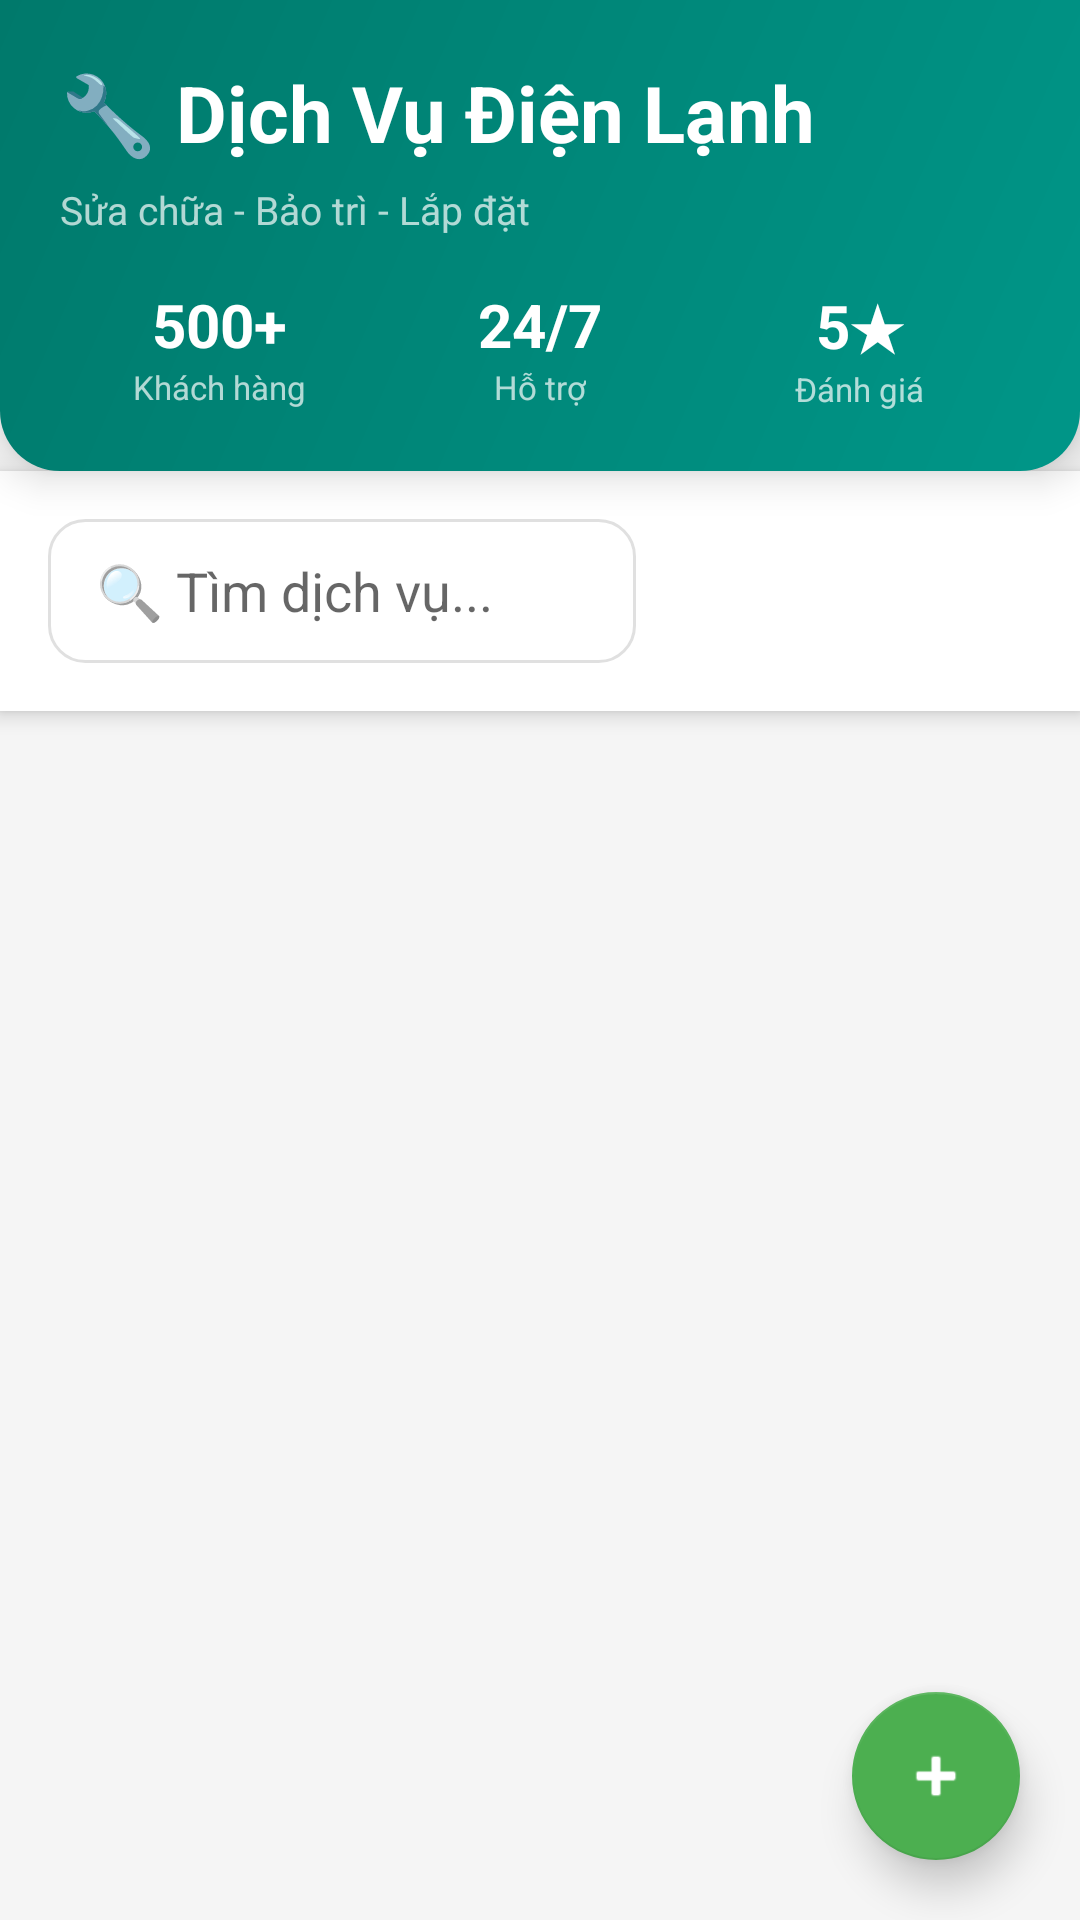

Screen size 1080px x 1920px. Icon name, then its center in pixels as [x,y]:
Thêm dịch vụ: [936,1776]
